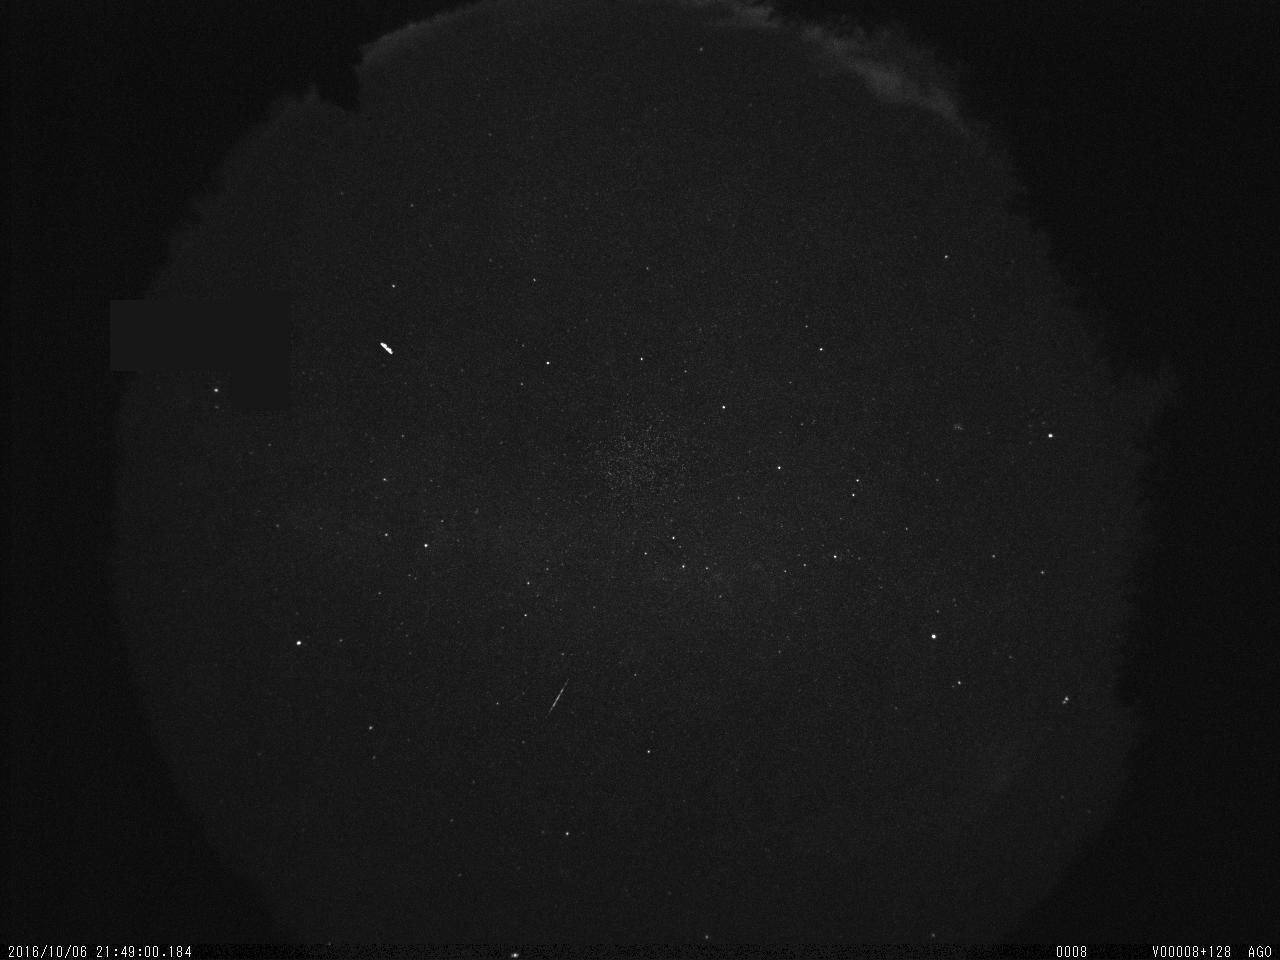meteor: (536, 664, 572, 732)
satelite: (371, 334, 398, 361)
